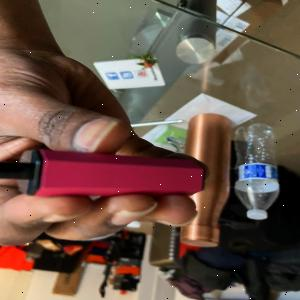Blume-E-Ciggirate: (0, 146, 209, 199)
